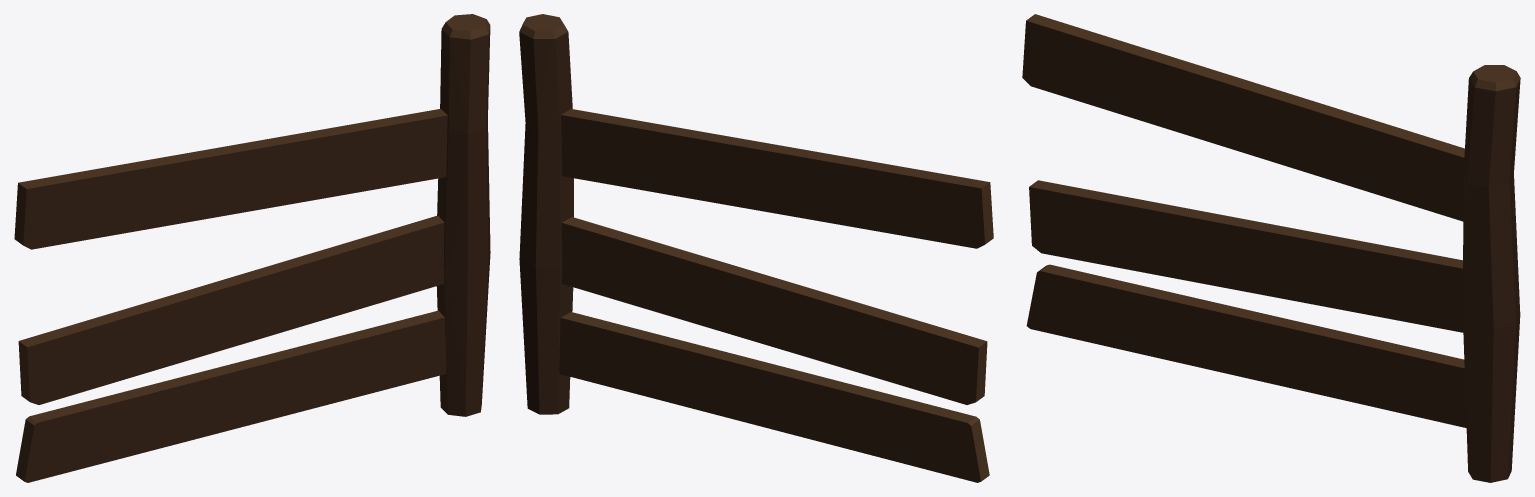
File: Cave_Lair_Wooden_Timber_Fence_Broken_01.fbx
3 views of the same model, side by side, from view 1: azimuth 30°, elevation 25°; view 2: azimuth 150°, elevation 25°; view 3: azimuth 330°, elevation 25° (orthographic). The views are drawn at different scales.
Parts seen in each view (by area): view 1: Cave_Lair_Wooden_Timber_Fence_Broken_01; view 2: Cave_Lair_Wooden_Timber_Fence_Broken_01; view 3: Cave_Lair_Wooden_Timber_Fence_Broken_01.
Boxes of the visible parts, x1,y1,x2,y2 form: Cave_Lair_Wooden_Timber_Fence_Broken_01: (14, 14, 490, 482); Cave_Lair_Wooden_Timber_Fence_Broken_01: (519, 14, 993, 482); Cave_Lair_Wooden_Timber_Fence_Broken_01: (1022, 14, 1520, 482).
Size of the model in its own units: 1.46 by 1.14 by 0.1449.
